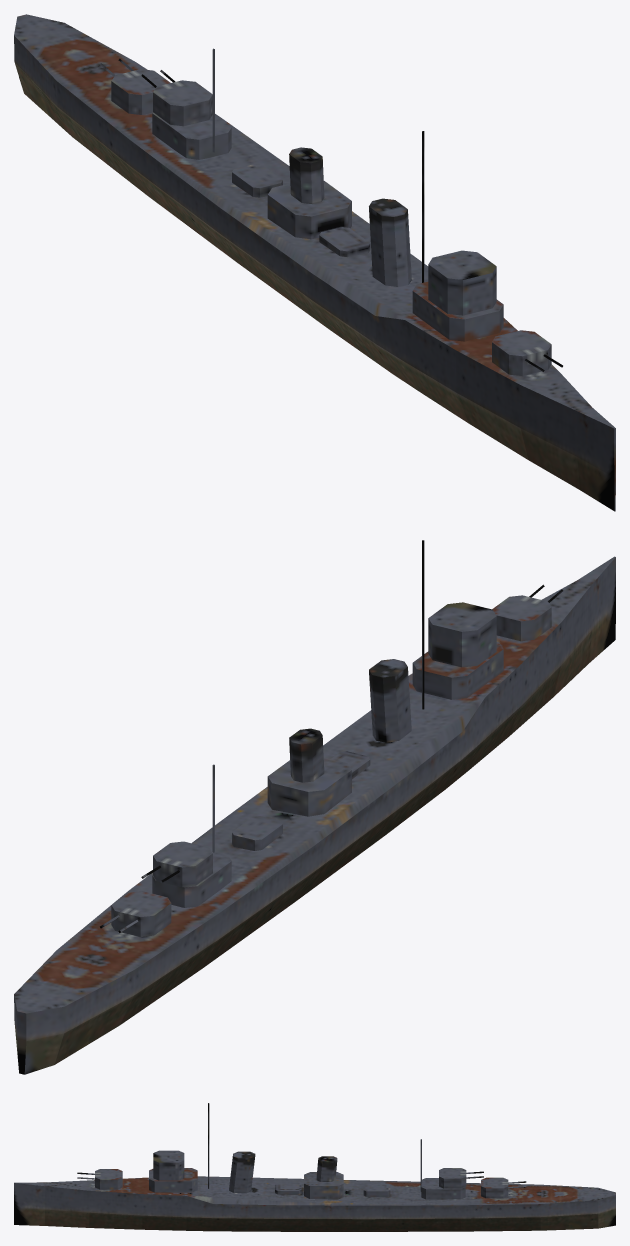
The model's file is simple-far.glb.
The picture shows the model from 3 angles, top to bottom: view 1: azimuth 30°, elevation 25°; view 2: azimuth 150°, elevation 25°; view 3: azimuth 270°, elevation 25°; orthographic projection. The views are drawn at different scales.
Visible parts, largest first — view 1: New escort hull.001, New escort deck.001, Bridge tier 0.001, Funnel 0.001, Deckhouse 1.001, Deckhouse 0.001, Deckhouse 2.001, Main turret TurretShape3.001, Main turret TurretShape1.001, Main turret TurretShape5.001, Funnel 1.001, Torpedo launcher.003 (+1 smaller); view 2: New escort hull.001, New escort deck.001, Bridge tier 0.001, Deckhouse 1.001, Funnel 0.001, Deckhouse 0.001, Main turret TurretShape5.001, Main turret TurretShape3.001, Main turret TurretShape1.001, Deckhouse 2.001, Funnel 1.001, Torpedo launcher.003; view 3: New escort hull.001, New escort deck.001, Bridge tier 0.001, Funnel 0.001, Deckhouse 1.001, Deckhouse 0.001, Deckhouse 2.001, Main turret TurretShape5.001, Main turret TurretShape1.001, Main turret TurretShape3.001, Funnel 1.001, Torpedo launcher.003 (+1 smaller).
Part boxes in pixels (x1=…): New escort hull.001: x1=14, y1=35, x2=615, y2=511; New escort deck.001: x1=14, y1=14, x2=615, y2=428; Bridge tier 0.001: x1=428, y1=250, x2=496, y2=315; Funnel 0.001: x1=369, y1=198, x2=411, y2=286; Deckhouse 1.001: x1=267, y1=181, x2=351, y2=239; Deckhouse 0.001: x1=412, y1=281, x2=503, y2=341; Deckhouse 2.001: x1=152, y1=112, x2=231, y2=159; Main turret TurretShape3.001: x1=153, y1=80, x2=212, y2=126; Main turret TurretShape1.001: x1=492, y1=330, x2=551, y2=376; Main turret TurretShape5.001: x1=111, y1=69, x2=170, y2=114; Funnel 1.001: x1=289, y1=147, x2=324, y2=203; Torpedo launcher.003: x1=232, y1=164, x2=282, y2=197; New escort hull.001: x1=14, y1=557, x2=615, y2=1074; New escort deck.001: x1=14, y1=556, x2=615, y2=1013; Bridge tier 0.001: x1=428, y1=602, x2=496, y2=667; Deckhouse 1.001: x1=267, y1=757, x2=351, y2=816; Funnel 0.001: x1=369, y1=659, x2=411, y2=742; Deckhouse 0.001: x1=412, y1=642, x2=503, y2=699; Main turret TurretShape5.001: x1=111, y1=891, x2=171, y2=936; Main turret TurretShape3.001: x1=153, y1=841, x2=212, y2=887; Main turret TurretShape1.001: x1=492, y1=595, x2=551, y2=641; Deckhouse 2.001: x1=152, y1=851, x2=231, y2=907; Funnel 1.001: x1=289, y1=728, x2=324, y2=782; Torpedo launcher.003: x1=232, y1=816, x2=282, y2=850; New escort hull.001: x1=14, y1=1183, x2=615, y2=1231; New escort deck.001: x1=14, y1=1176, x2=615, y2=1205; Bridge tier 0.001: x1=153, y1=1150, x2=184, y2=1180; Funnel 0.001: x1=229, y1=1151, x2=255, y2=1193; Deckhouse 1.001: x1=304, y1=1172, x2=343, y2=1199; Deckhouse 0.001: x1=149, y1=1168, x2=197, y2=1192; Deckhouse 2.001: x1=421, y1=1178, x2=465, y2=1199; Main turret TurretShape5.001: x1=481, y1=1177, x2=508, y2=1198; Main turret TurretShape1.001: x1=95, y1=1169, x2=122, y2=1189; Main turret TurretShape3.001: x1=439, y1=1168, x2=466, y2=1188; Funnel 1.001: x1=316, y1=1156, x2=337, y2=1181; Torpedo launcher.003: x1=363, y1=1184, x2=390, y2=1197.
Bounding box in the file's own units: 12.63 × 30.3 × 136.
Materials: 1 (1 with a texture image).
